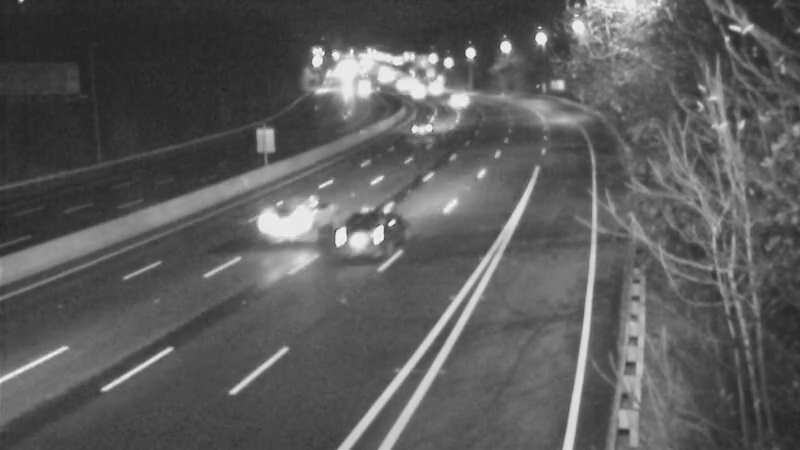vehicle: (237, 171, 317, 251), (326, 196, 406, 276), (412, 62, 462, 112), (389, 68, 439, 118), (435, 72, 485, 122), (396, 103, 446, 153)
